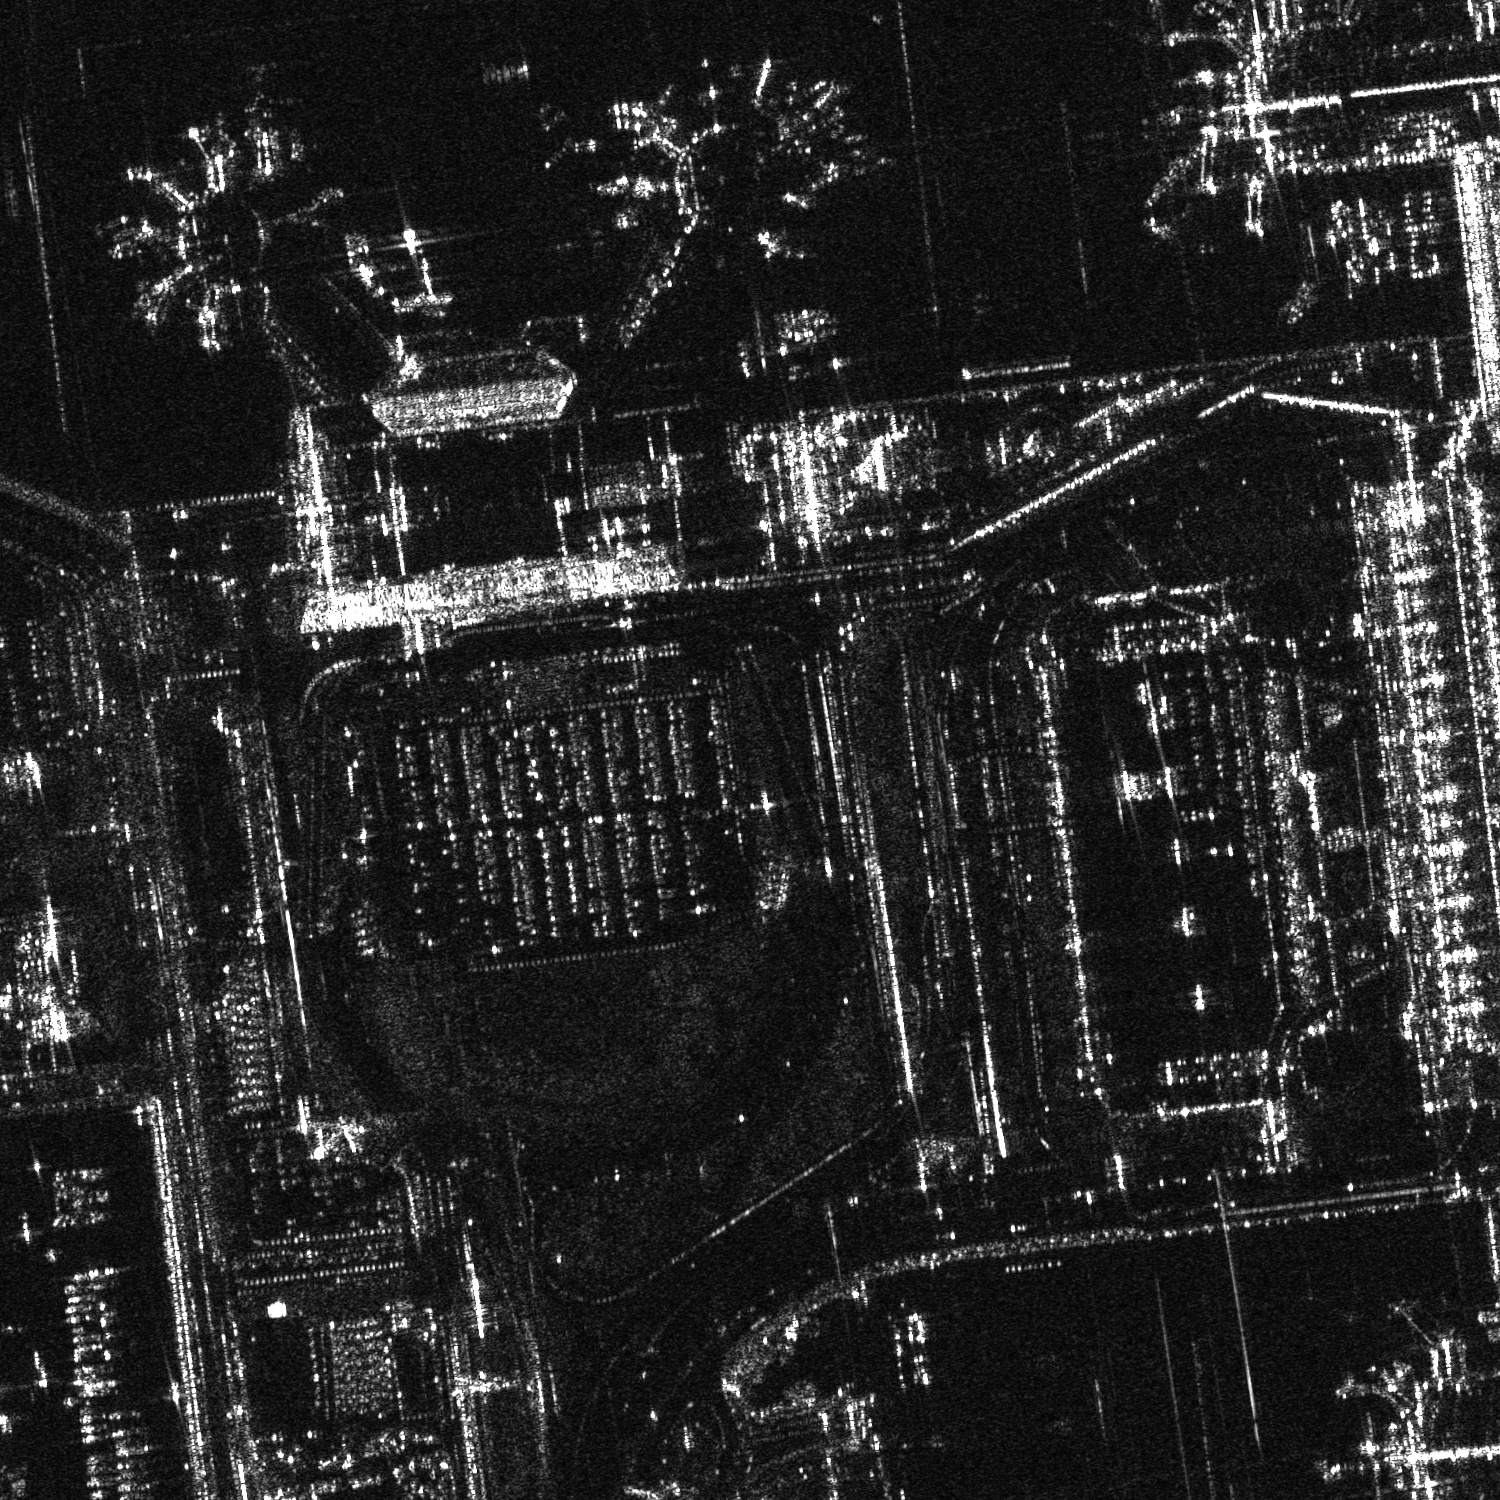A220: (554, 218, 613, 264)
